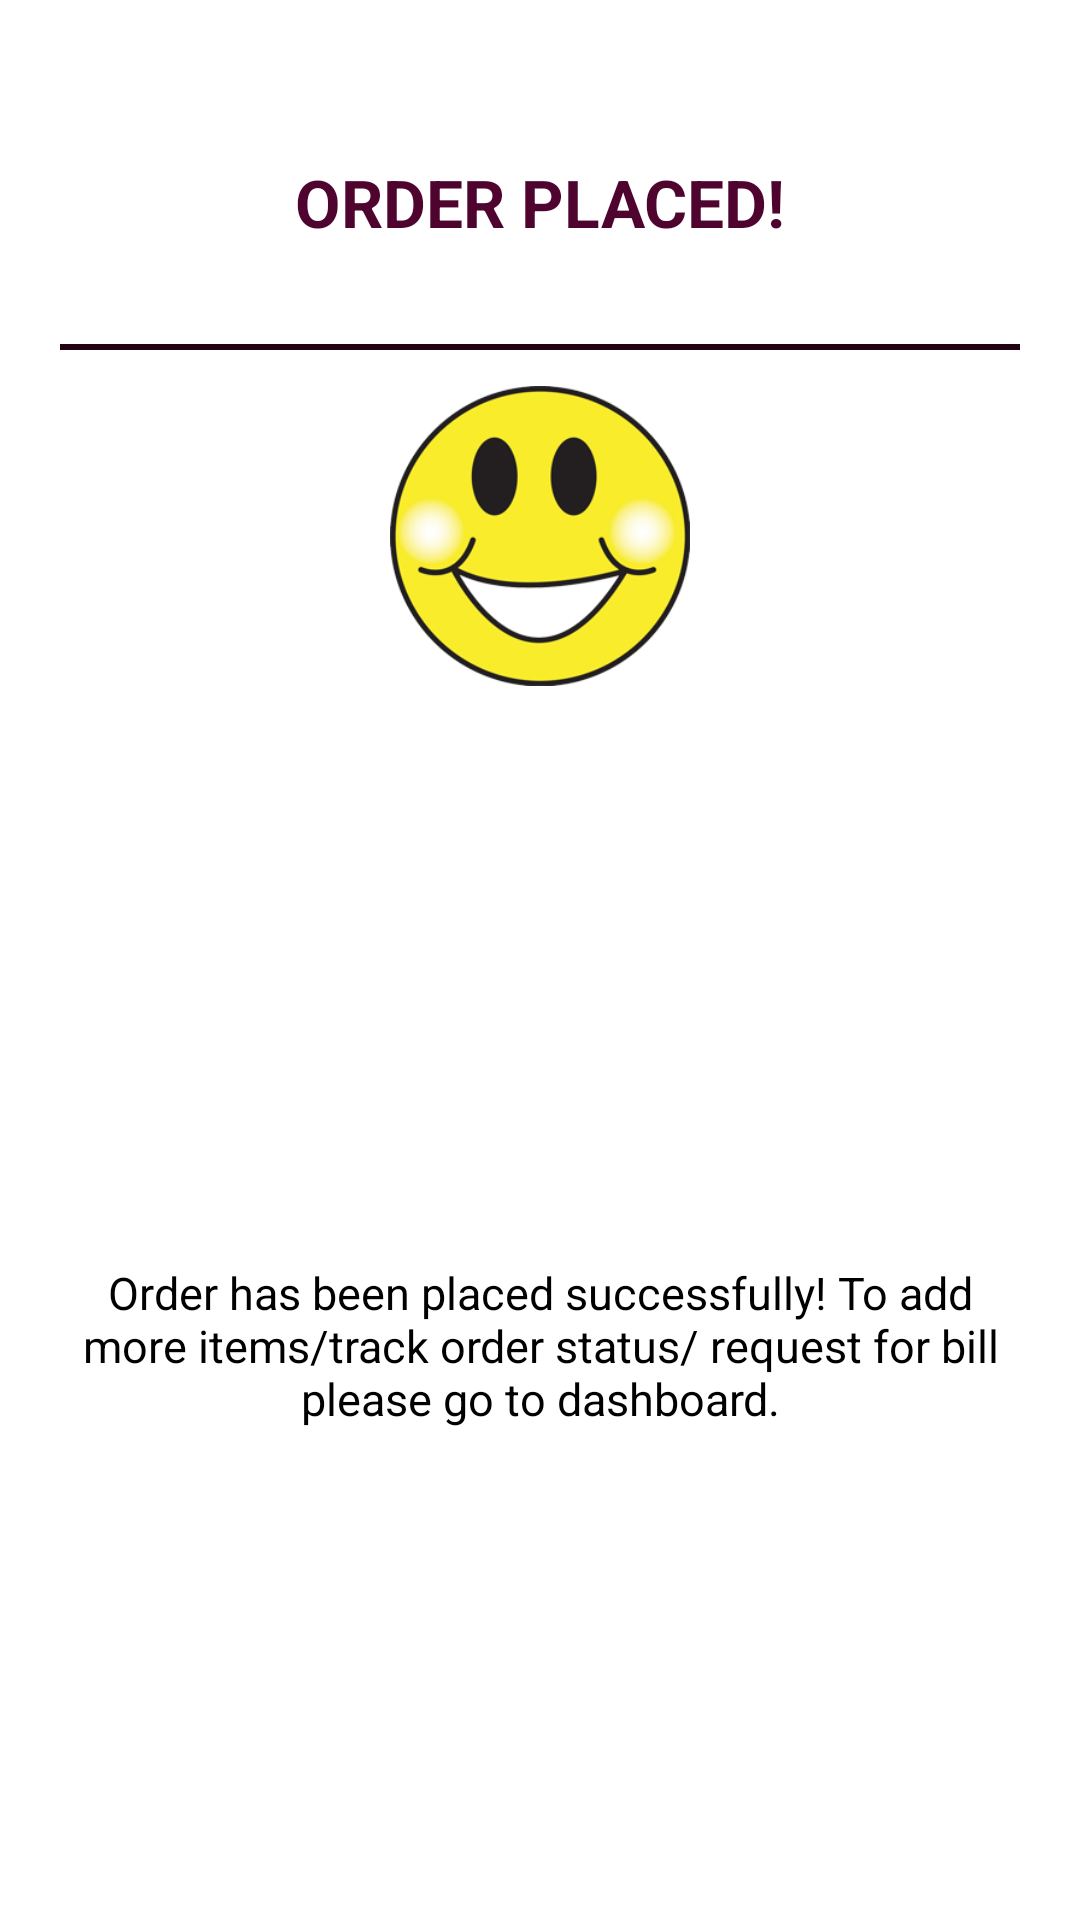

Point at icon controls on the screen. Image size 1080*1920, points as point (x, y).
smilie: point (540, 536)
